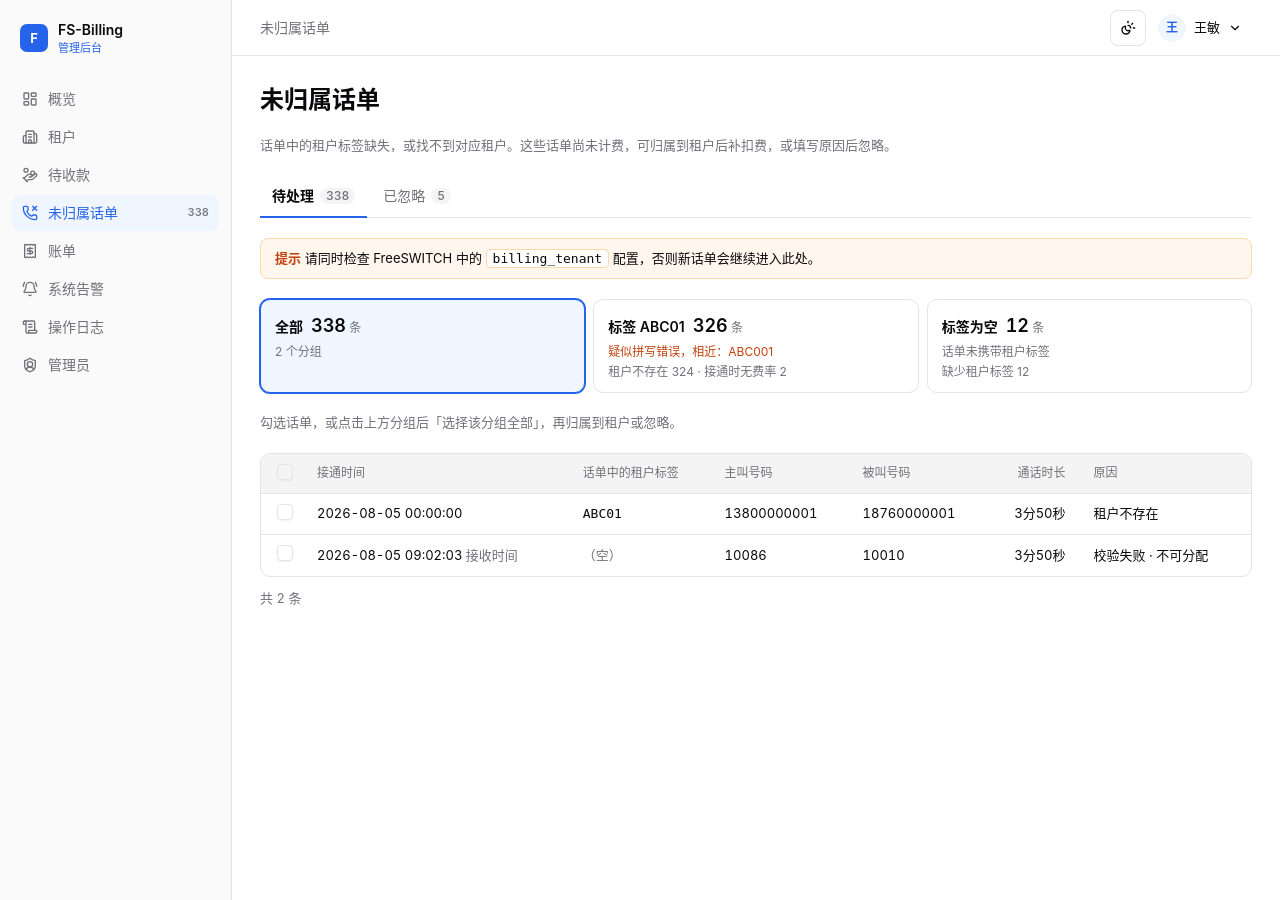
Test: unassigned calls › shows the currency of a similar tenant picked before the tenant list has it
Click the button "标签 ABC01 326 条 疑似拼写错误，相近：ABC001 租户不存在 324 · 接通时无费率 2": (756, 346) x1=593 y1=299 x2=919 y2=393
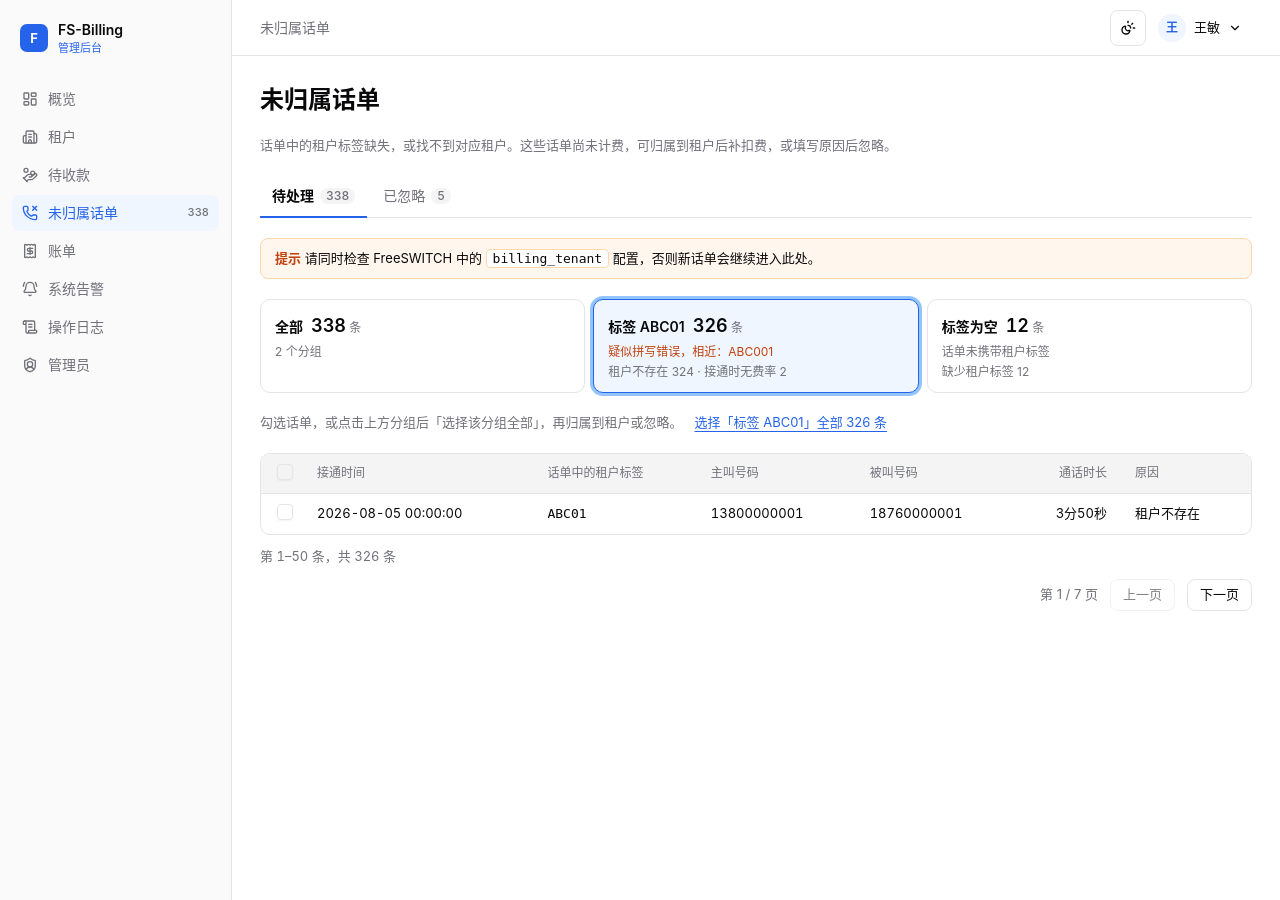
Click the button "选择「标签 ABC01」全部 326 条": (791, 423) x1=694 y1=413 x2=887 y2=432
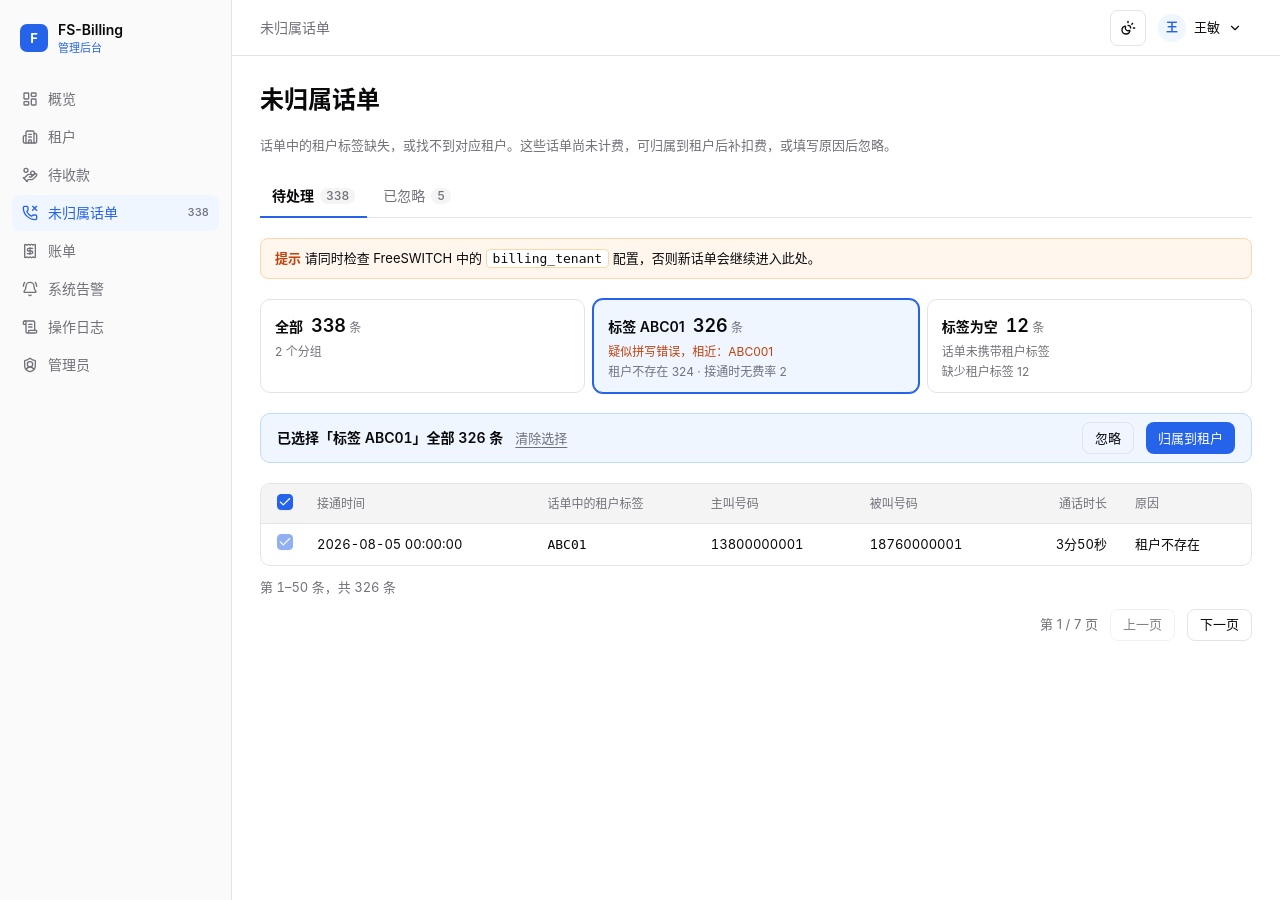
Click the button "归属到租户": (1190, 438) x1=1146 y1=422 x2=1235 y2=454
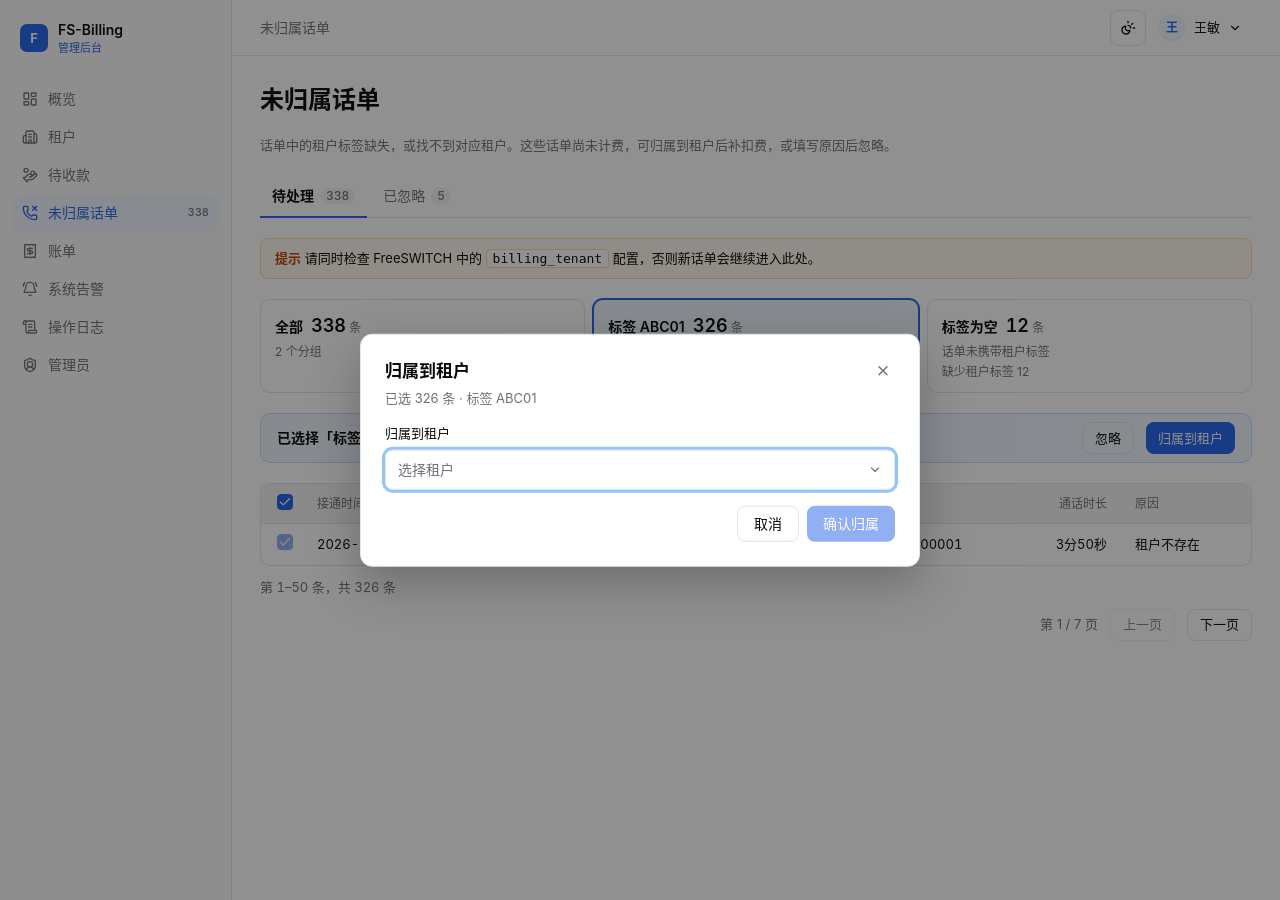
Click the dropdown named "归属到租户": (426, 469) x1=385 y1=449 x2=895 y2=489
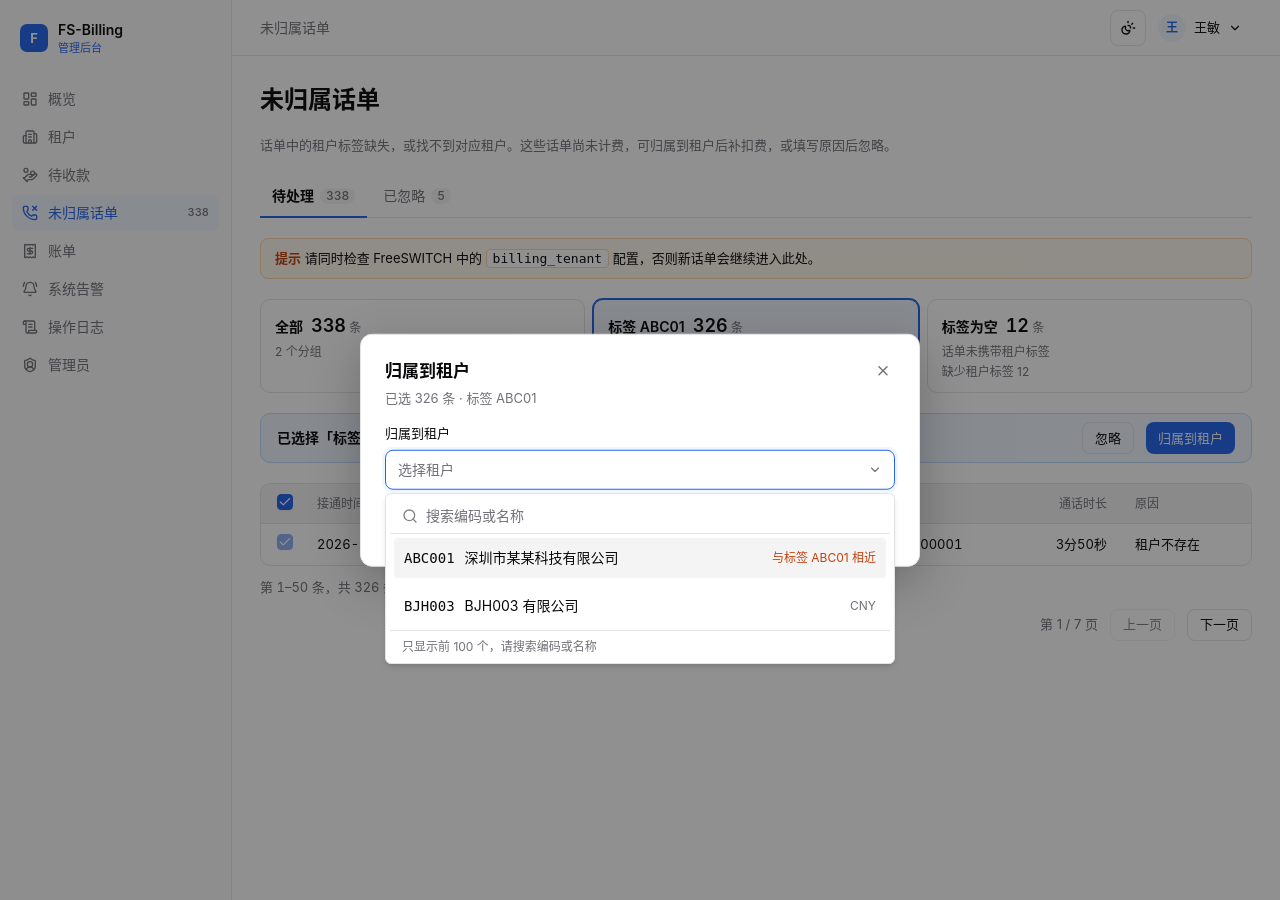
Click the option "ABC001 深圳市某某科技有限公司 与标签 ABC01 相近": (429, 558) x1=394 y1=538 x2=886 y2=578
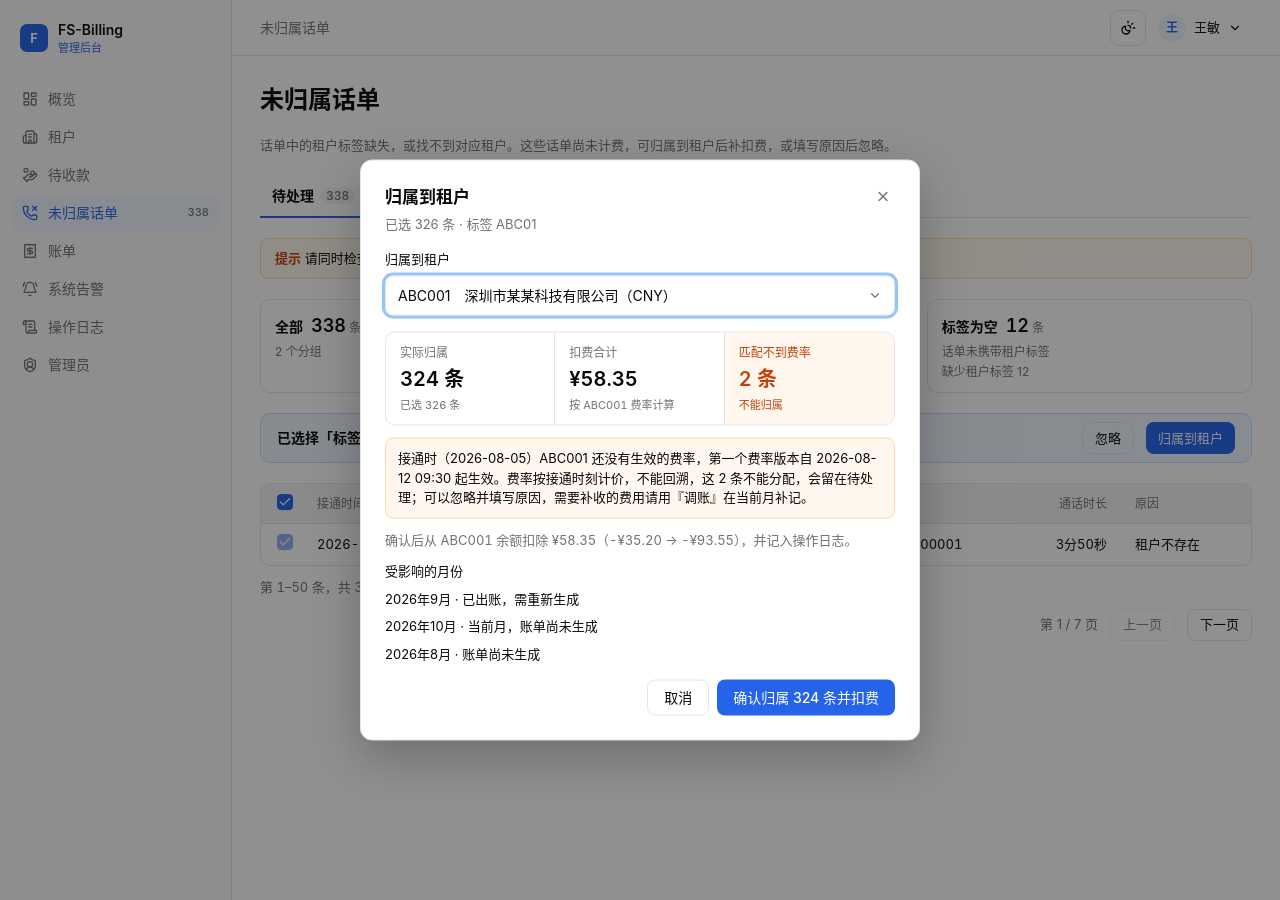
Check: the dropdown named "归属到租户：ABC001　深圳市某某科技有限公司（CNY）" is shown, box x1=385 y1=275 x2=895 y2=315
